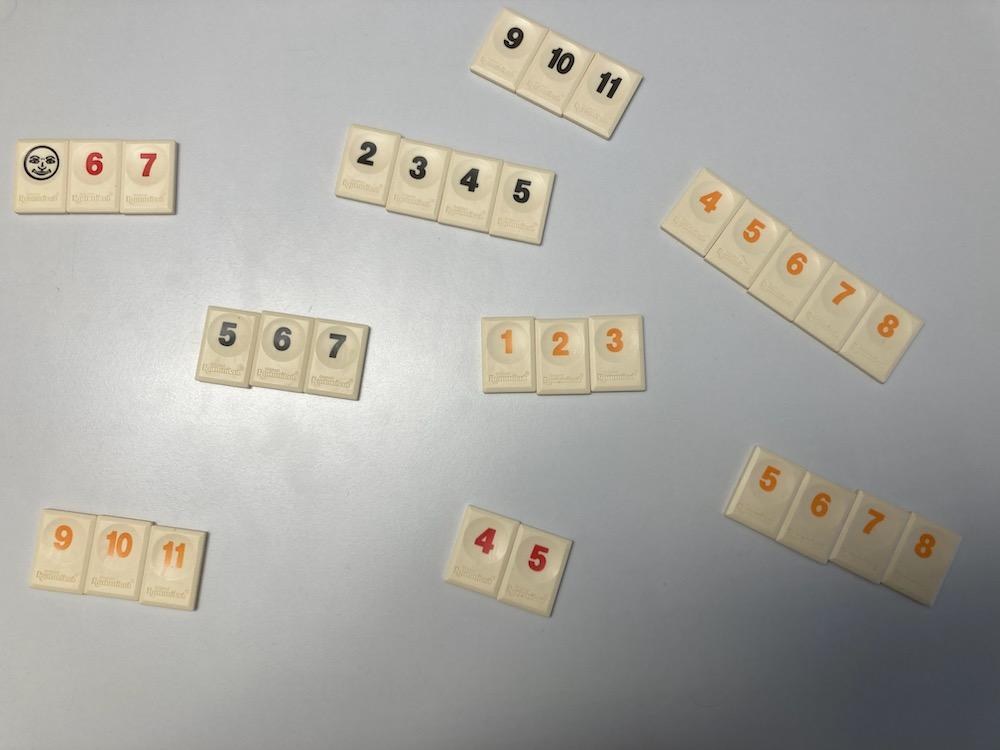black_10: (516, 31, 594, 115)
black_11: (564, 53, 643, 139)
black_2: (334, 125, 400, 205)
black_3: (388, 139, 451, 221)
black_4: (438, 150, 502, 232)
black_5: (488, 162, 555, 244), (195, 307, 260, 387)
black_6: (250, 311, 314, 391)
black_7: (305, 318, 369, 400)
black_9: (471, 8, 547, 92)
joker: (14, 139, 68, 213)
orange_1: (482, 318, 533, 393)
orange_10: (84, 516, 152, 600)
orange_11: (139, 525, 207, 609)
orange_2: (536, 320, 589, 393)
orange_3: (588, 316, 644, 391)
orange_4: (662, 168, 746, 256)
orange_5: (725, 447, 807, 537), (707, 199, 789, 287)
orange_6: (748, 232, 832, 320), (777, 471, 855, 564)
orange_7: (830, 490, 910, 584), (795, 262, 877, 350)
orange_8: (840, 294, 924, 383), (881, 514, 961, 607)
orange_9: (29, 510, 96, 594)
red_4: (443, 506, 520, 598)
red_5: (496, 525, 572, 617)
red_6: (68, 141, 121, 213)
red_7: (121, 142, 176, 215)
